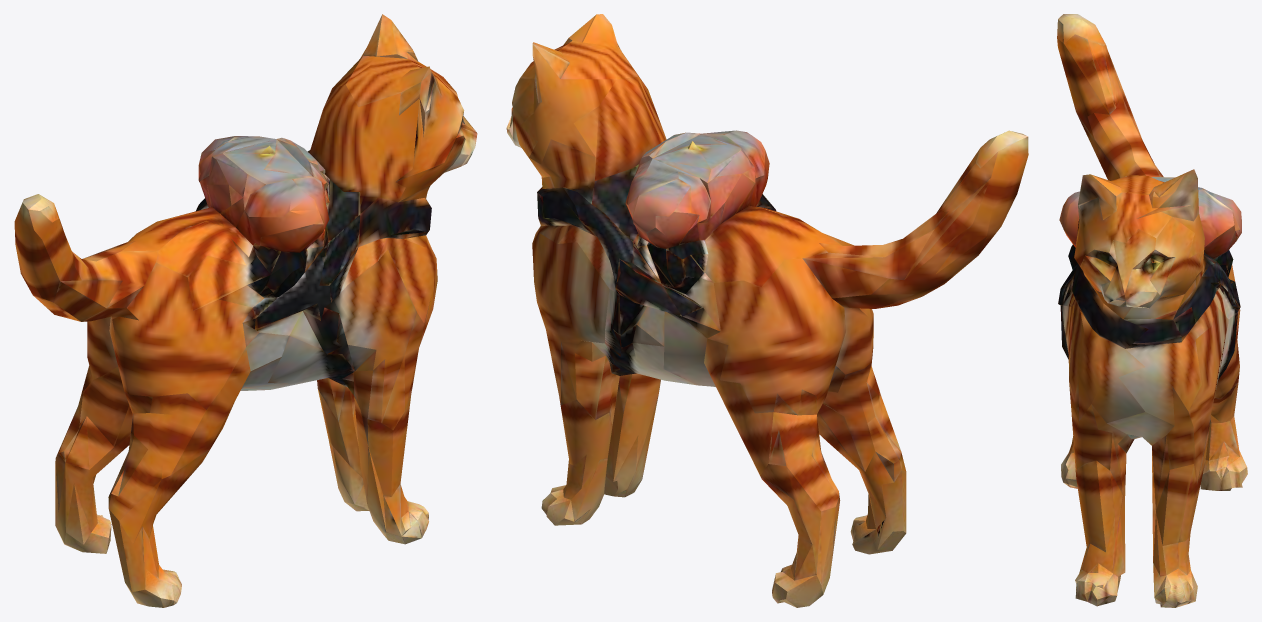
The model's file is STRAYB12-lo.glb.
3 renders of one model, left to right at view 1: azimuth 30°, elevation 25°; view 2: azimuth 150°, elevation 25°; view 3: azimuth 270°, elevation 25°, orthographic. The views are drawn at different scales.
Visible parts, largest first — view 1: output_unwrapped; view 2: output_unwrapped; view 3: output_unwrapped.
Part boxes in pixels (x1,y1,x2,y2): output_unwrapped: (14,14,477,607); output_unwrapped: (506,14,1028,607); output_unwrapped: (1057,14,1247,607).
Size of the model in its own units: 1.06 by 1 by 0.3877.
Materials: 1 (1 with a texture image).
